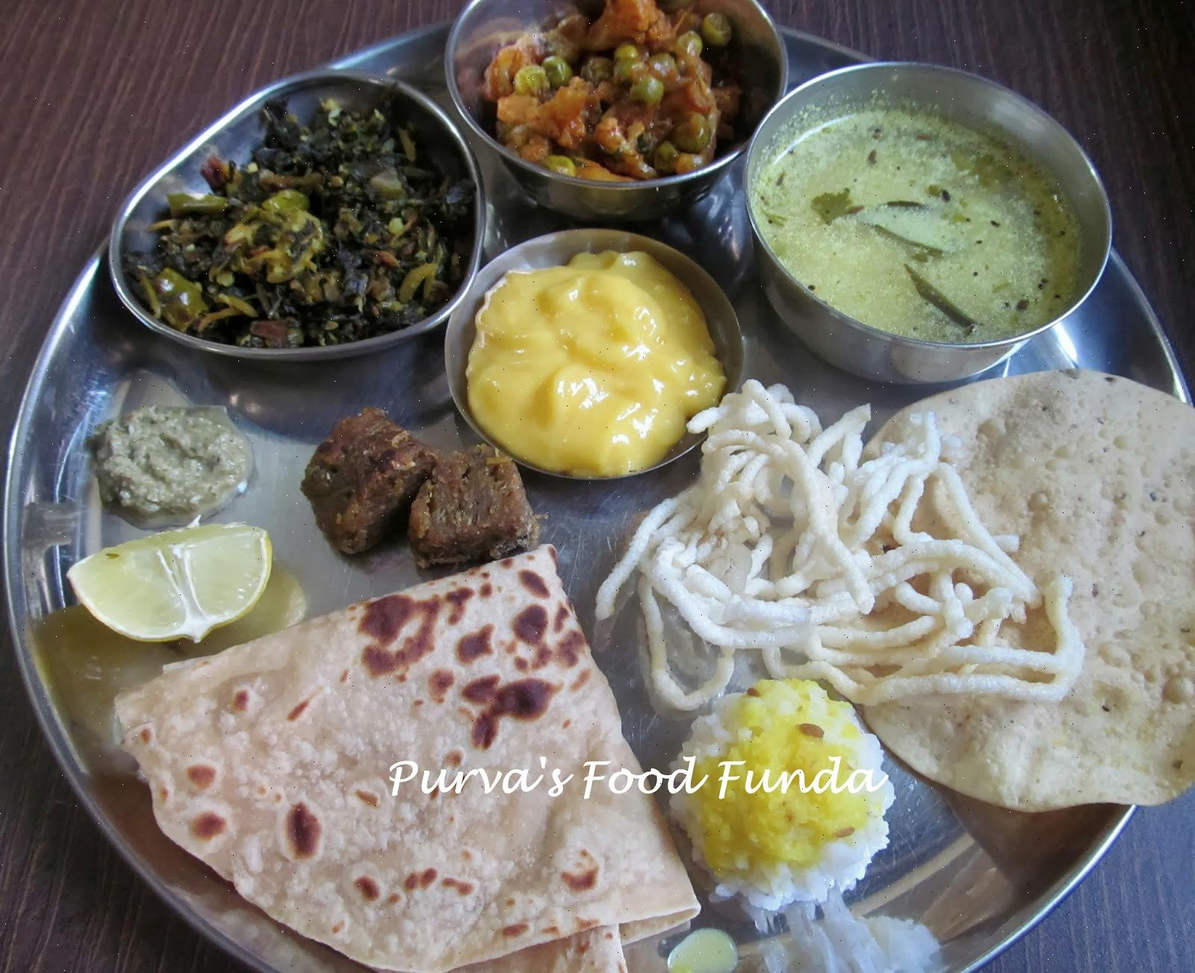roti phulka: (138, 529, 704, 973)
varan: (754, 76, 1106, 367)
